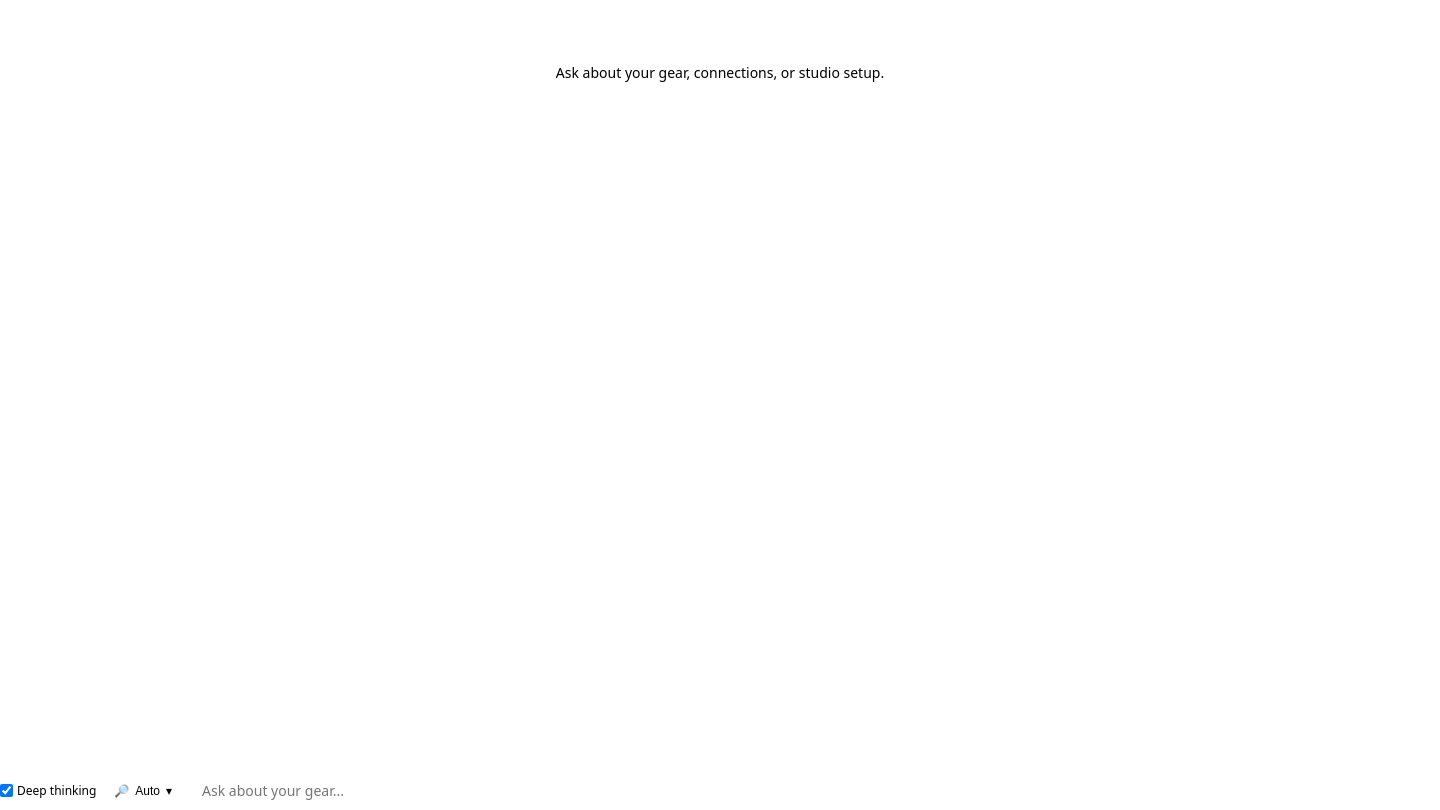
it: ChatPage › scope picker › opens a list of all manuals when clicked
What coordinates should you click on to do the following:
click the button "🔎 Auto ▾"
I would click on:
 (143, 790)
Its box is x1=104 y1=771 x2=182 y2=809.
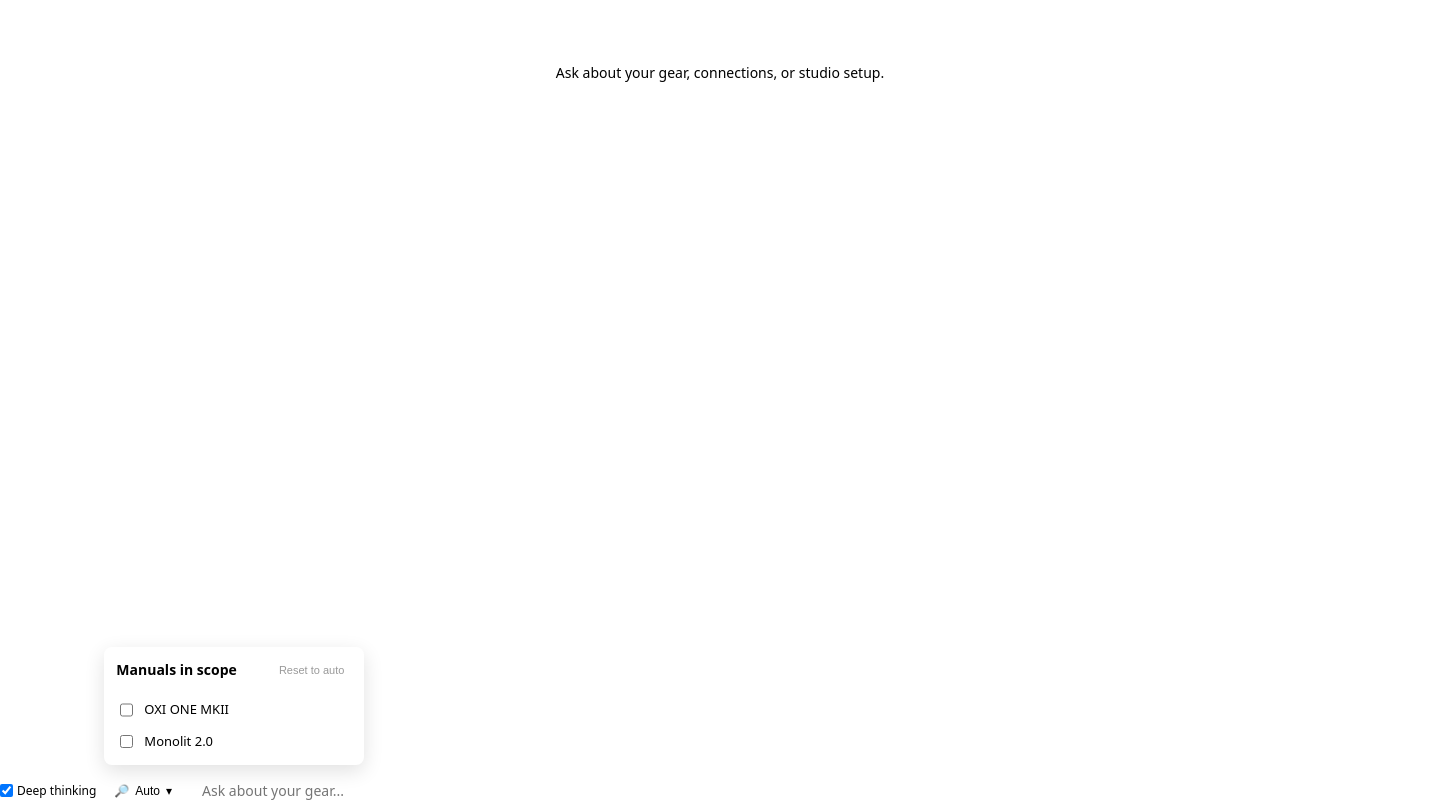
Expected: the text "OXI ONE MKII" is shown, x1=144 y1=700 x2=229 y2=720
Expected: the text "Monolit 2.0" is shown, x1=144 y1=732 x2=213 y2=751
